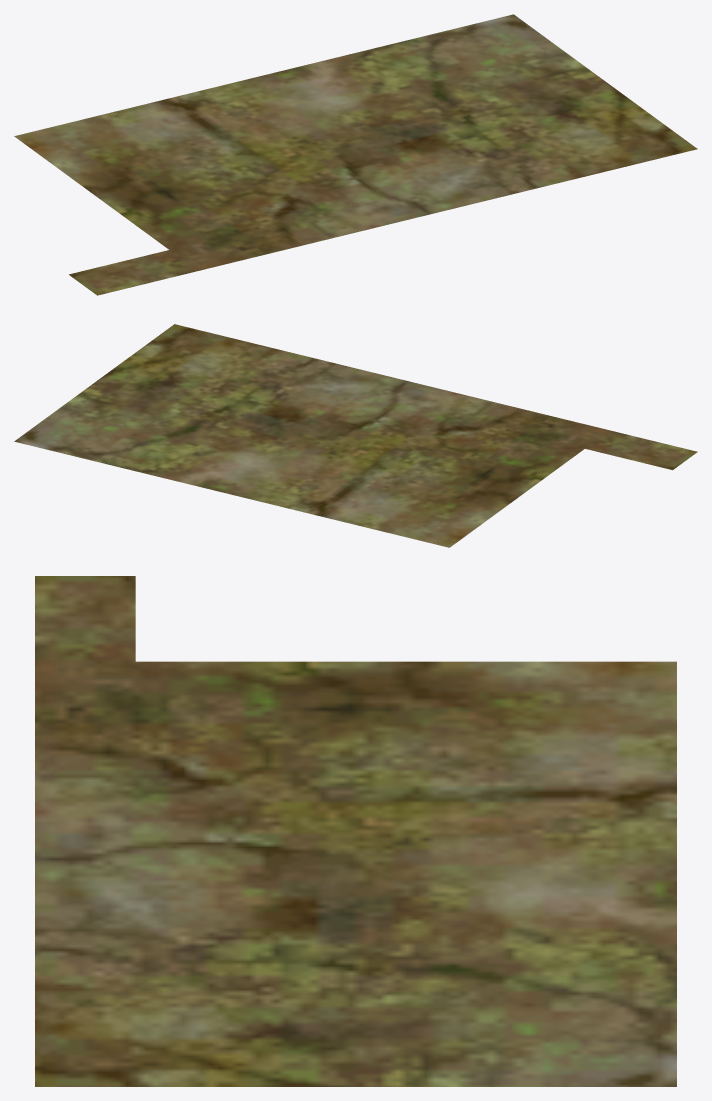
File: OVERHILL_A_01_OBJECT95.fbx
3 views of the same model, one above another, from view 1: azimuth 30°, elevation 25°; view 2: azimuth 150°, elevation 25°; view 3: azimuth 270°, elevation 25° (orthographic). The views are drawn at different scales.
Parts seen in each view (by area): view 1: OVERHILL_A_01_OBJECT95; view 2: OVERHILL_A_01_OBJECT95; view 3: OVERHILL_A_01_OBJECT95.
Part boxes in pixels (left/top/right/bottom): OVERHILL_A_01_OBJECT95: left=14, top=14, right=697, bottom=295; OVERHILL_A_01_OBJECT95: left=14, top=324, right=697, bottom=547; OVERHILL_A_01_OBJECT95: left=35, top=576, right=676, bottom=1086.
Size of the model in its own units: 24035 by 0.0485 by 12768.
1 material, 1 textured.
